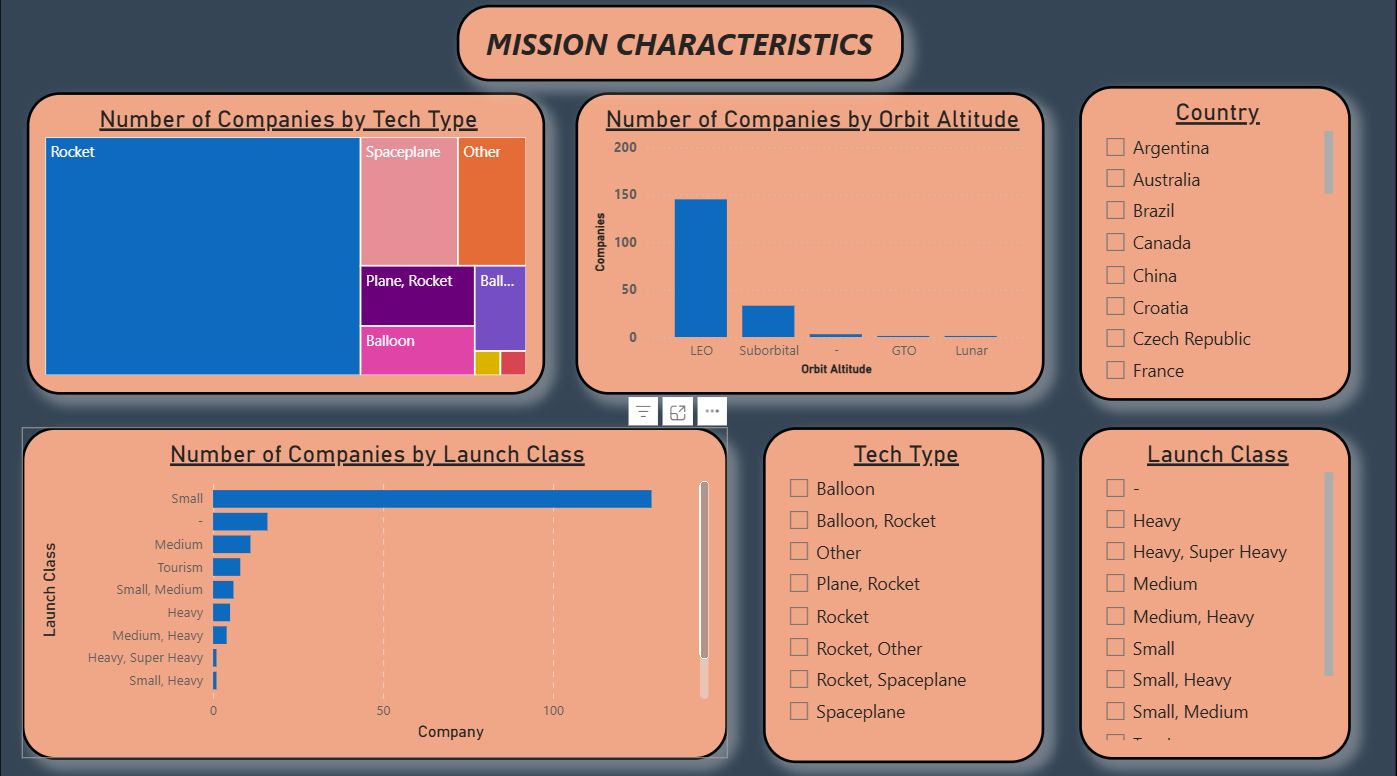

Layout of this report page (visuals, bound fields, positions):
{"tool":"powerbi","page":{"name":"Mission Characteristics","canvas":[1280,720],"ordinal":1},"visuals":[{"type":"barChart","title":"Number of Companies by Launch Class","fields":{"Category":["Launch SFR.Launch Class"],"Y":["CountNonNull(Launch SFR.Company)"]},"box":[26,395.3,640.6,301.5],"z":0},{"type":"clusteredColumnChart","title":"Number of Companies by Orbit Altitude","fields":{"Category":["Launch SFR.Orbit Altitude"],"Y":["CountNonNull(Launch SFR.Company)"]},"box":[525.2,86.6,425.6,274.1],"z":1000},{"type":"treemap","title":"Number of Companies by Tech Type","fields":{"Group":["Launch SFR.Tech Type"],"Values":["CountNonNull(Launch SFR.Company)"]},"box":[30.3,86.6,470.3,274.1],"z":2000},{"type":"slicer","title":"Country","fields":{"Values":["Launch SFR.Country"]},"box":[985.4,86.6,246.7,285.7],"z":3000},{"type":"slicer","title":"Tech Type","fields":{"Values":["Launch SFR.Tech Type"]},"box":[695.4,395.3,255.4,304.4],"z":4000},{"type":"slicer","title":"Launch Class","fields":{"Values":["Launch SFR.Launch Class"]},"box":[985.4,395.3,246.7,301.5],"z":5000},{"type":"textbox","box":[421.3,5.8,405.4,69.3],"z":6000}]}

Visuals, with their boxes in screenshot pixels (x1, y1, x2, y2), scaled from the page's 1280x720 canvas onto the 1397x776 screenshot:
"Number of Companies by Launch Class" barChart: bbox=(28, 426, 728, 751)
"Number of Companies by Orbit Altitude" clusteredColumnChart: bbox=(573, 93, 1038, 389)
"Number of Companies by Tech Type" treemap: bbox=(33, 93, 546, 389)
"Country" slicer: bbox=(1075, 93, 1345, 401)
"Tech Type" slicer: bbox=(759, 426, 1038, 754)
"Launch Class" slicer: bbox=(1075, 426, 1345, 751)
textbox: bbox=(460, 6, 902, 81)
